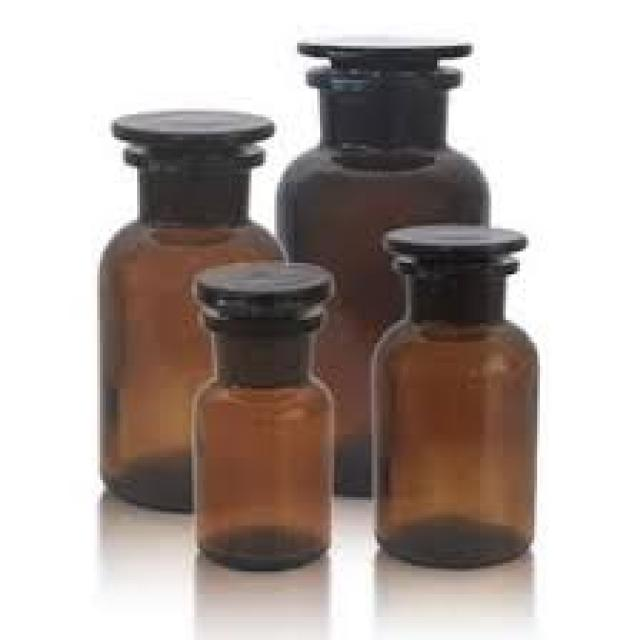glass: (275, 37, 492, 497), (94, 109, 283, 506), (363, 217, 534, 572), (189, 257, 329, 569)
